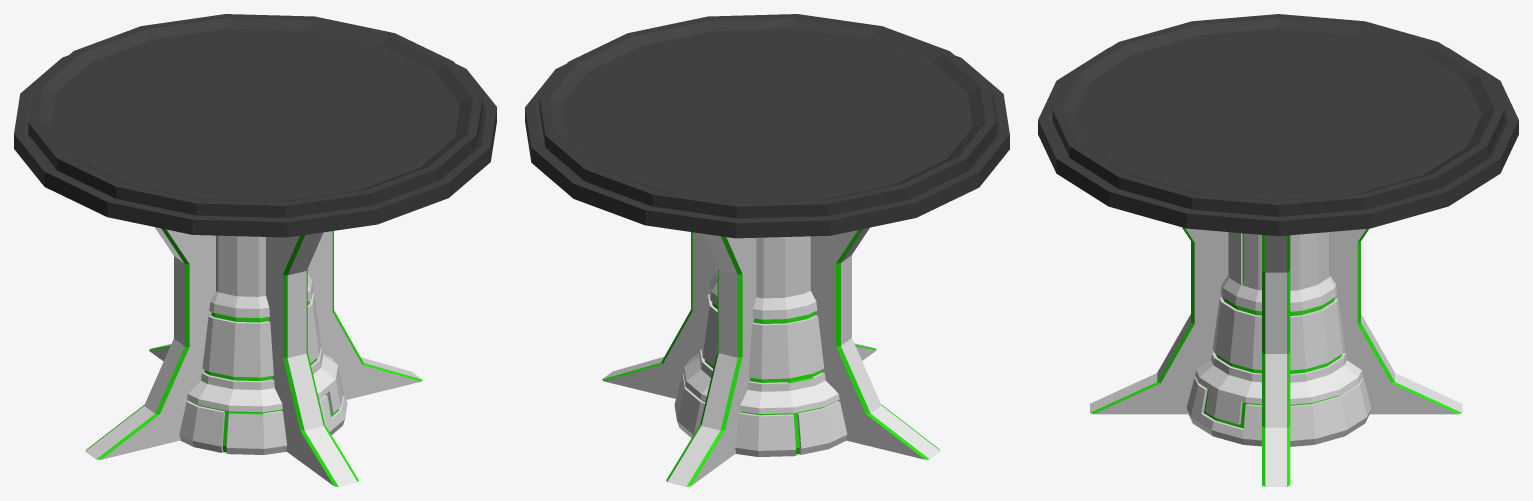
Rendered from platform.fbx.
3 renders of one model, left to right at view 1: azimuth 30°, elevation 25°; view 2: azimuth 150°, elevation 25°; view 3: azimuth 270°, elevation 25°, orthographic.
Visible parts, largest first — view 1: Cube.013; view 2: Cube.013; view 3: Cube.013.
Part boxes in pixels (left/top/right/bottom): Cube.013: left=14, top=14, right=496, bottom=486; Cube.013: left=525, top=14, right=1009, bottom=486; Cube.013: left=1038, top=14, right=1518, bottom=486.
Bounding box in the file's own units: 4730 × 3264 × 4730.
